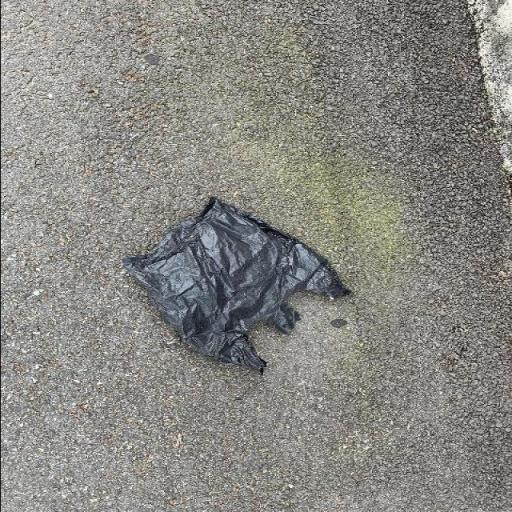plastic-bag: (121, 196, 356, 374)
